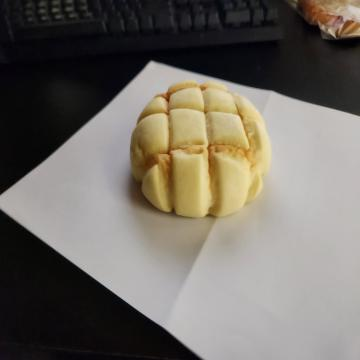melon_bread: (131, 82, 272, 219)
